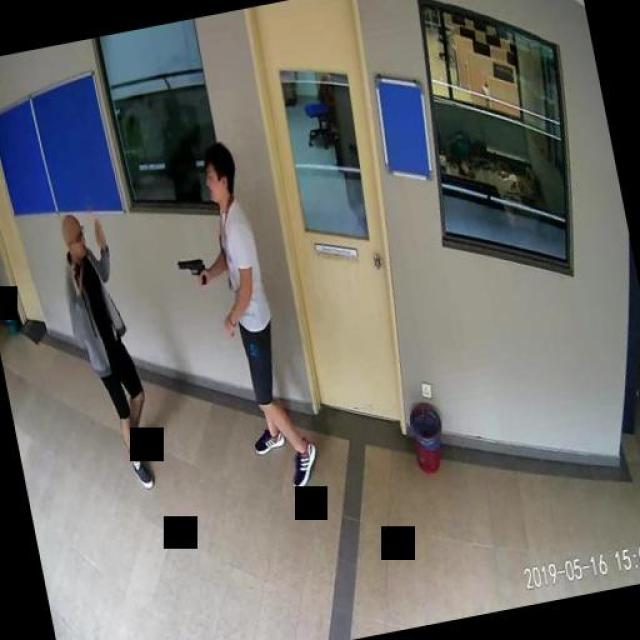gun: (176, 255, 206, 287)
